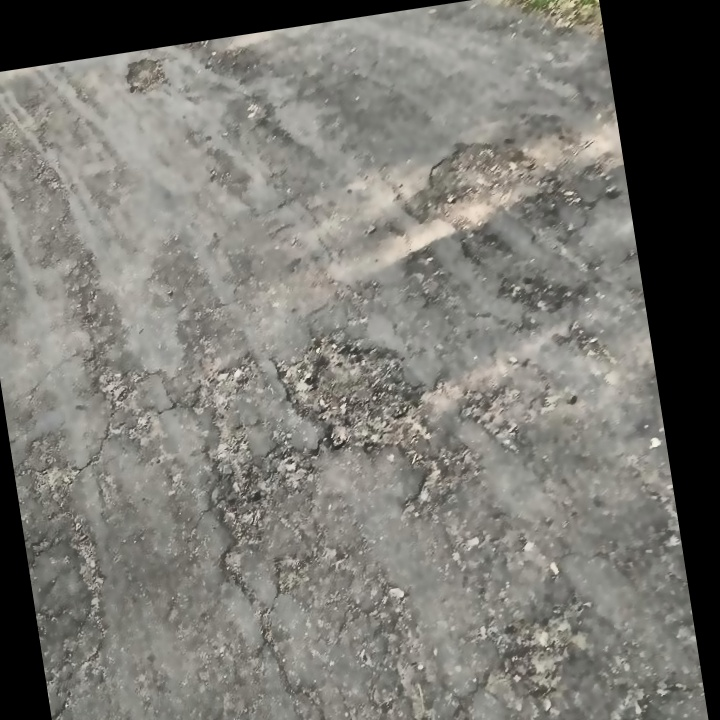pothole: (285, 322, 440, 466), (422, 130, 541, 208), (120, 52, 174, 99)
